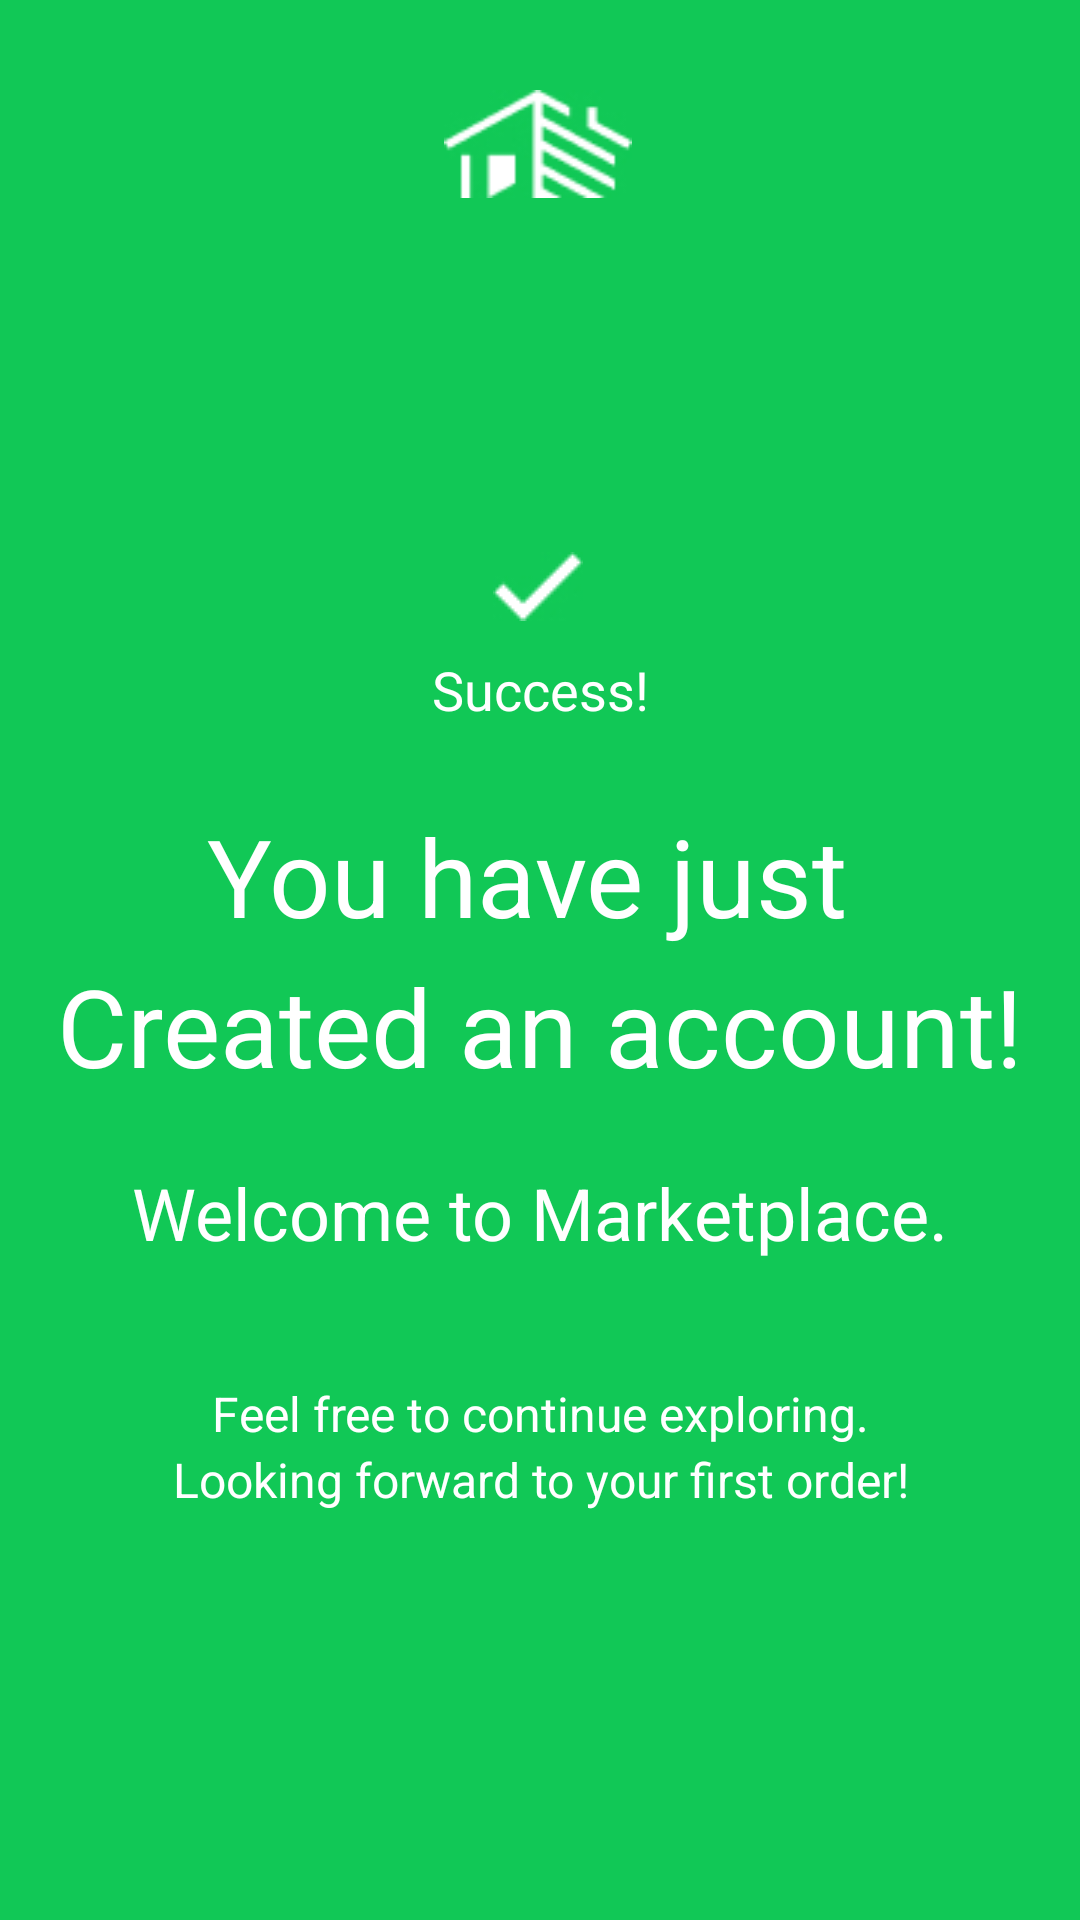

Where icons sit on this 1080px x 1920px app screen, as bbox=[x1, y1, x2, y2]:
tick: bbox=[493, 552, 583, 621]
